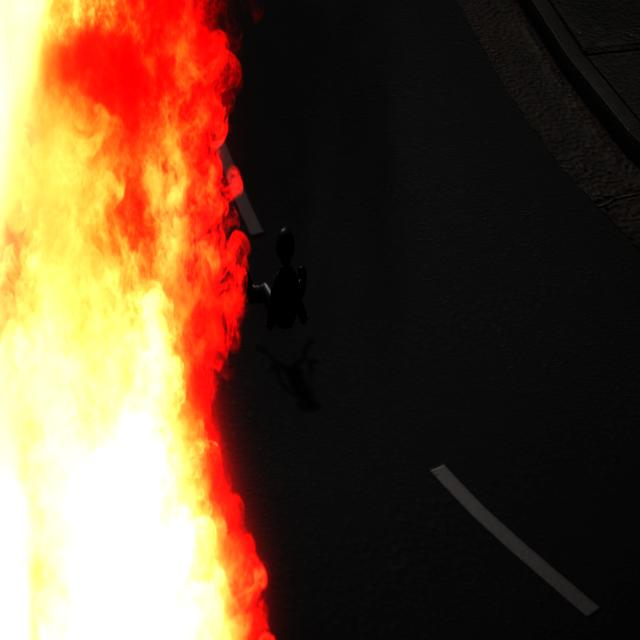Human: (251, 224, 312, 332)
